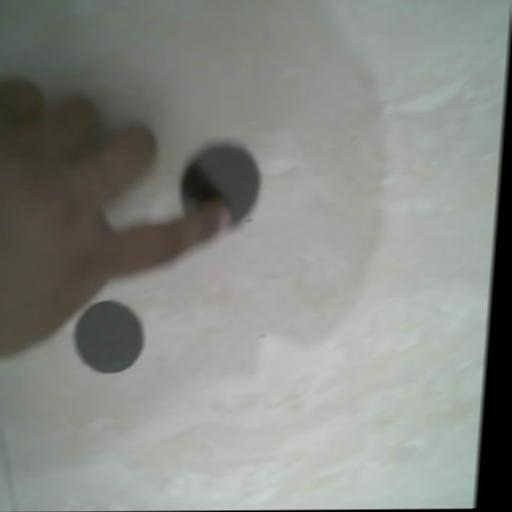pothole: (176, 142, 263, 229), (70, 299, 147, 374)
